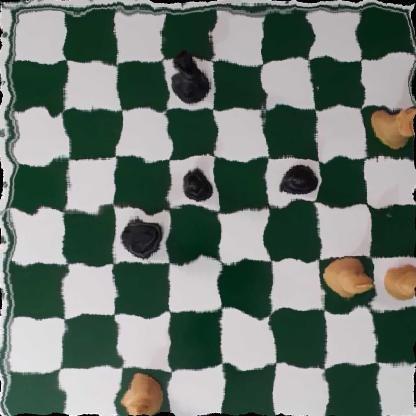black-king: (169, 51, 210, 103)
black-pawn: (275, 165, 318, 197), (176, 169, 214, 205)
black-rook: (120, 217, 167, 256)
white-bishop: (120, 370, 162, 416)
white-king: (324, 258, 373, 303)
white-pawn: (383, 264, 416, 301)
white-rook: (370, 103, 416, 146)
